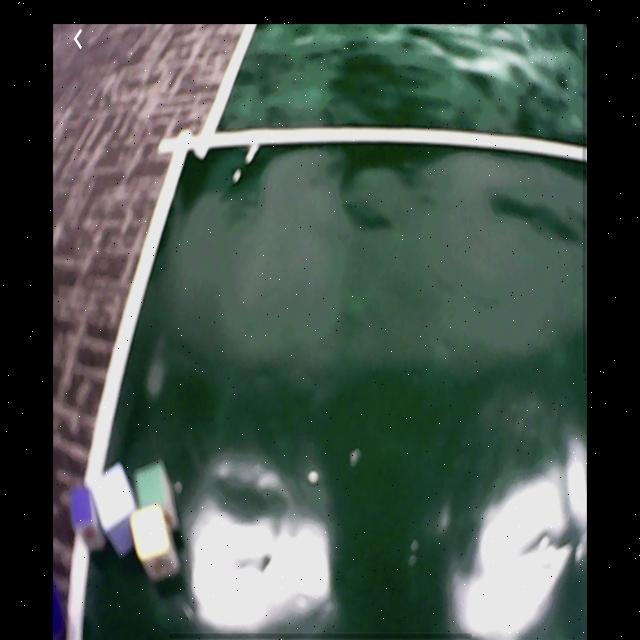ball: (53, 581, 69, 640)
